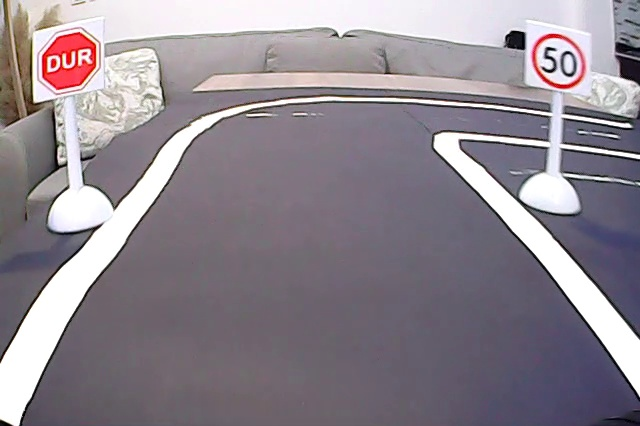speed limit 50: (530, 25, 589, 91)
stop sign: (40, 27, 106, 92)
